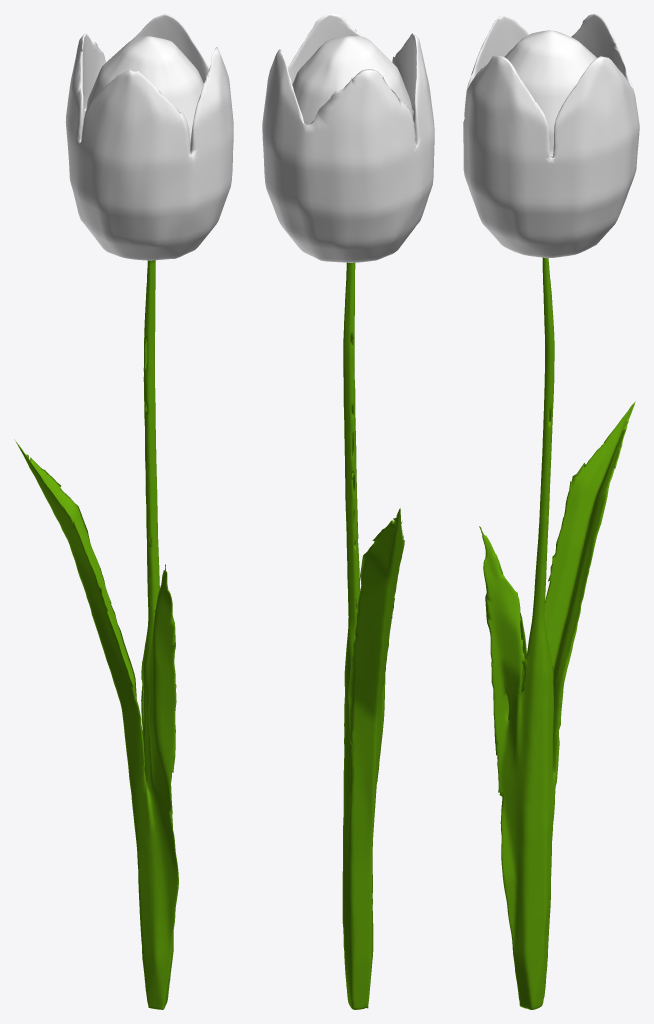
The model's file is white.glb.
3 renders of one model, left to right at view 1: azimuth 30°, elevation 25°; view 2: azimuth 150°, elevation 25°; view 3: azimuth 270°, elevation 25°, orthographic.
Parts seen in each view (by area): view 1: tulip_white; view 2: tulip_white; view 3: tulip_white.
Boxes of the visible parts, x1,y1,x2,y2 form: tulip_white: (14,14,233,1009); tulip_white: (262,14,434,1009); tulip_white: (463,14,639,1009).
Bounding box in the file's own units: 0.303 × 1.7 × 0.278.
